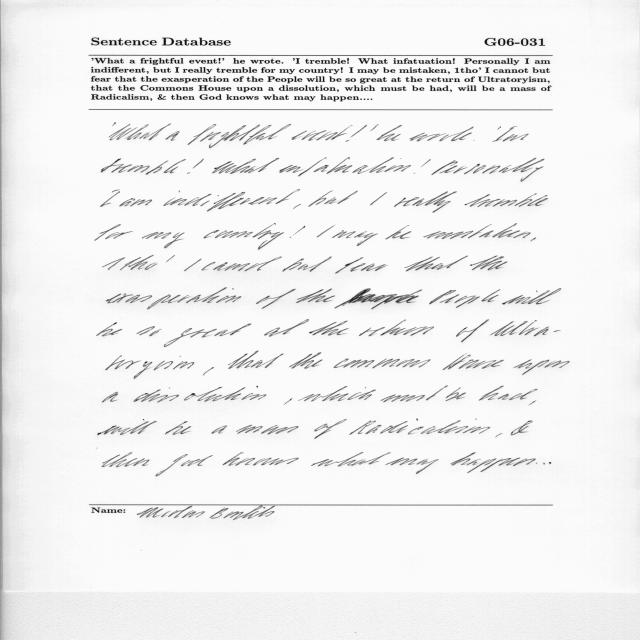word: (163, 190, 300, 212), (106, 288, 241, 309), (432, 158, 545, 182), (296, 289, 422, 310), (279, 158, 411, 177), (188, 124, 291, 148), (134, 386, 267, 403), (350, 419, 491, 435), (203, 223, 284, 250), (106, 355, 194, 379), (164, 324, 252, 347), (424, 224, 531, 240), (451, 452, 520, 473), (101, 158, 186, 175), (394, 191, 457, 213), (429, 289, 500, 308), (155, 454, 213, 477), (298, 386, 376, 402), (201, 257, 282, 272), (359, 320, 434, 336), (311, 452, 391, 467), (465, 193, 548, 207), (490, 320, 561, 336), (103, 255, 175, 270), (212, 158, 279, 174), (381, 386, 448, 402), (223, 452, 299, 466), (110, 124, 171, 141), (443, 353, 504, 370), (228, 351, 284, 369), (502, 288, 561, 305), (292, 125, 353, 141), (409, 127, 474, 142), (334, 359, 431, 369), (404, 256, 468, 271), (98, 419, 157, 435), (385, 457, 439, 474), (335, 257, 388, 274), (514, 359, 570, 375), (479, 386, 538, 401), (308, 190, 358, 207), (256, 289, 296, 309), (264, 320, 309, 337), (456, 320, 489, 343), (282, 257, 332, 272), (332, 230, 378, 246), (103, 453, 150, 468), (142, 232, 185, 248), (314, 419, 347, 439), (95, 224, 133, 241), (236, 425, 299, 435), (492, 126, 529, 142), (310, 321, 349, 336), (470, 256, 508, 271), (289, 352, 322, 369), (376, 125, 402, 141), (386, 225, 412, 239), (165, 421, 191, 435), (346, 125, 367, 142), (97, 322, 122, 336), (511, 421, 533, 436), (101, 190, 120, 207), (119, 198, 152, 207), (446, 388, 466, 401), (513, 459, 545, 467), (187, 159, 204, 174), (414, 159, 431, 174), (137, 326, 162, 336), (370, 192, 387, 205), (184, 259, 202, 271), (317, 226, 334, 238), (290, 226, 305, 238), (102, 392, 118, 402), (165, 131, 180, 141), (211, 425, 227, 434), (203, 367, 214, 375), (370, 124, 379, 131), (284, 398, 292, 405), (293, 204, 301, 209), (529, 401, 536, 406), (496, 433, 503, 438), (530, 238, 536, 242), (112, 122, 116, 126), (498, 126, 501, 130), (549, 462, 551, 464), (473, 140, 474, 141)
